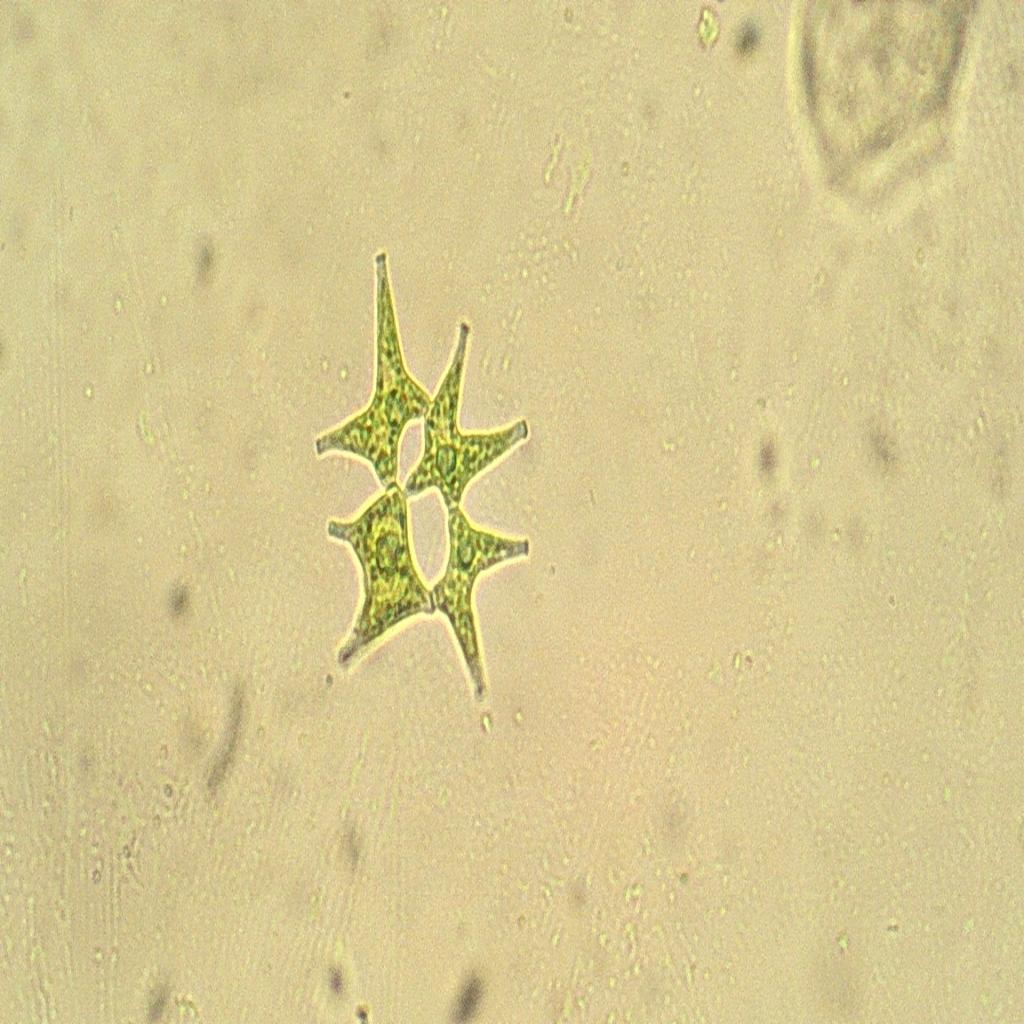Pediastrum_75FO: (302, 248, 541, 728)
